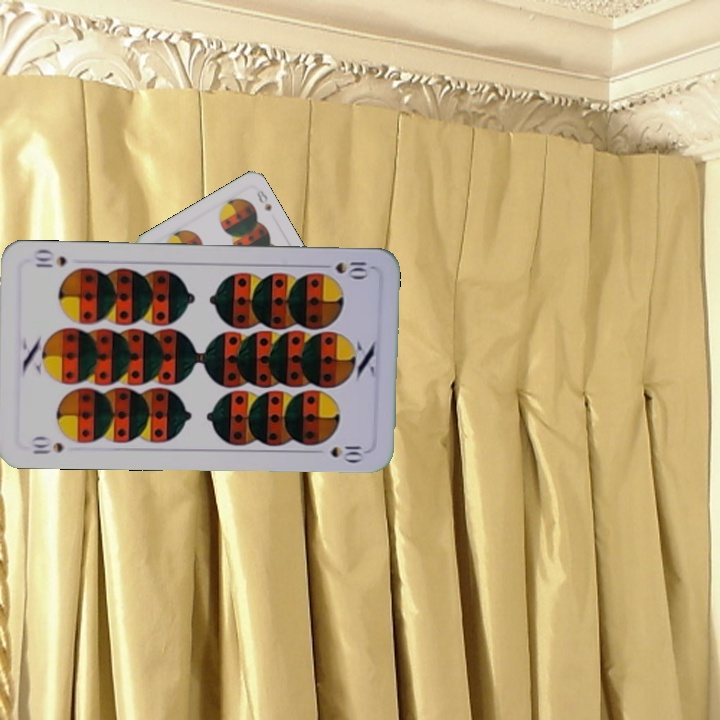S10: (315, 258, 371, 279), (27, 433, 66, 457)
